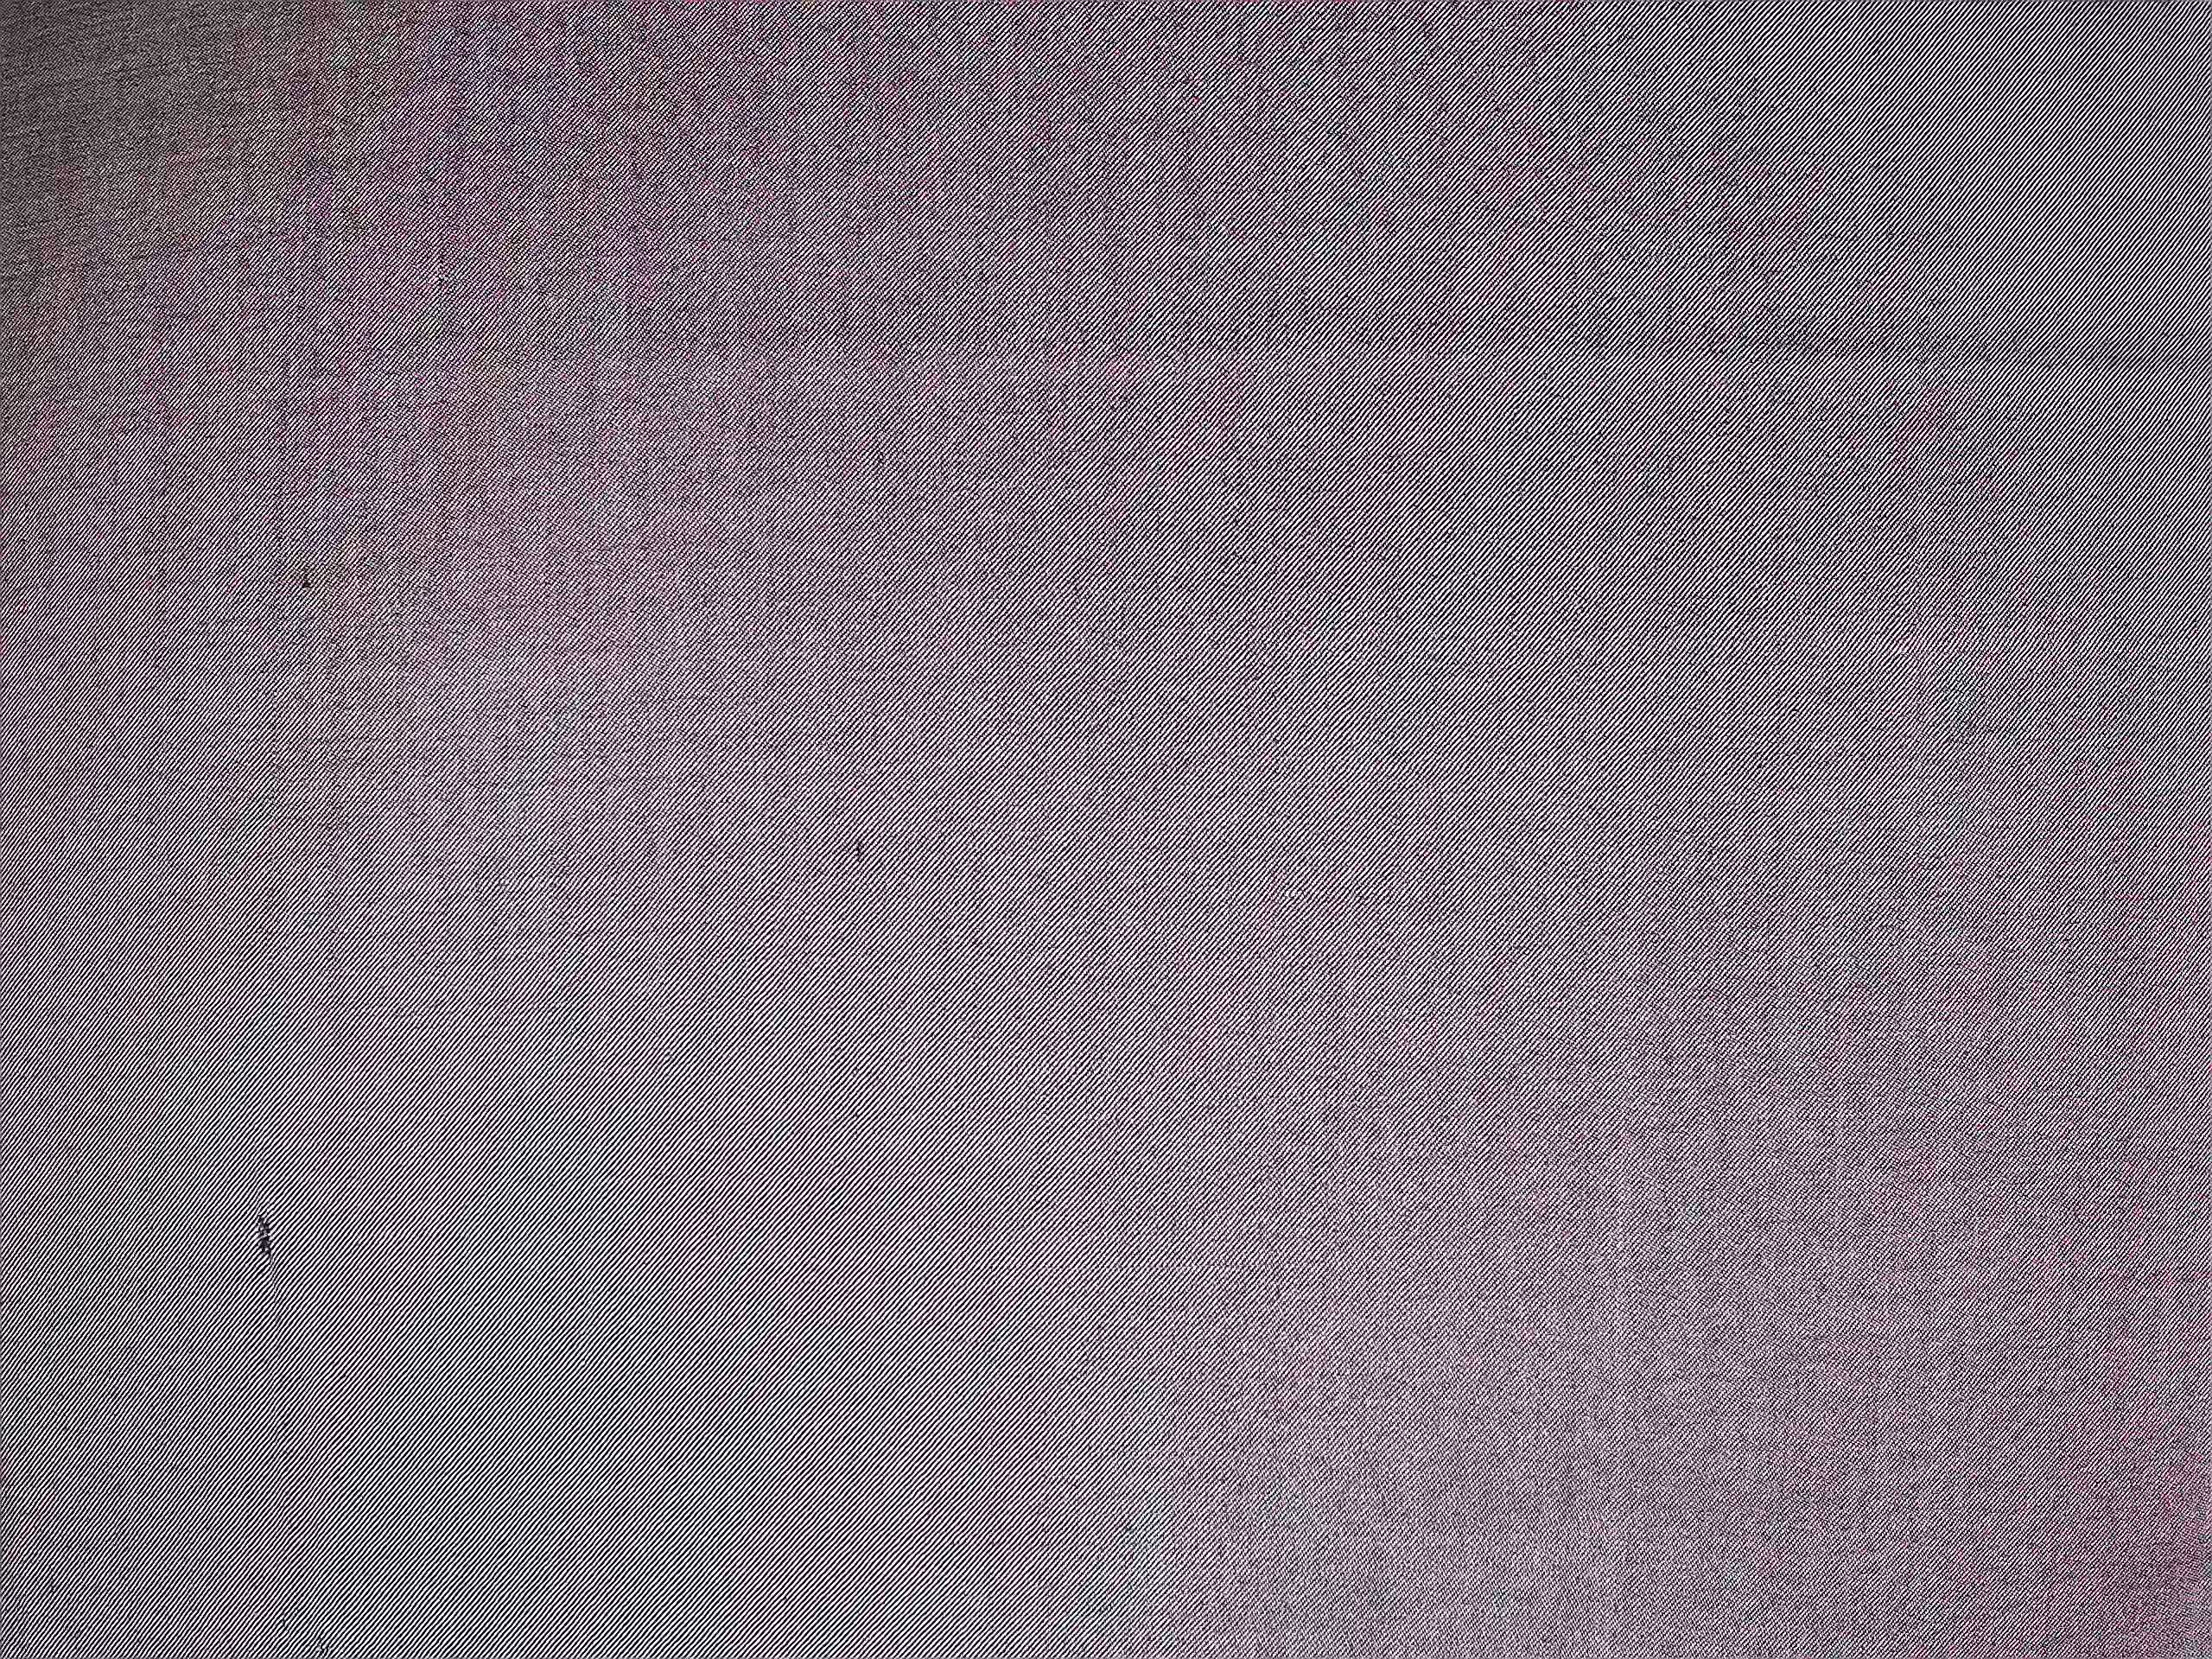hanging-warp: (244, 1201, 308, 1628)
